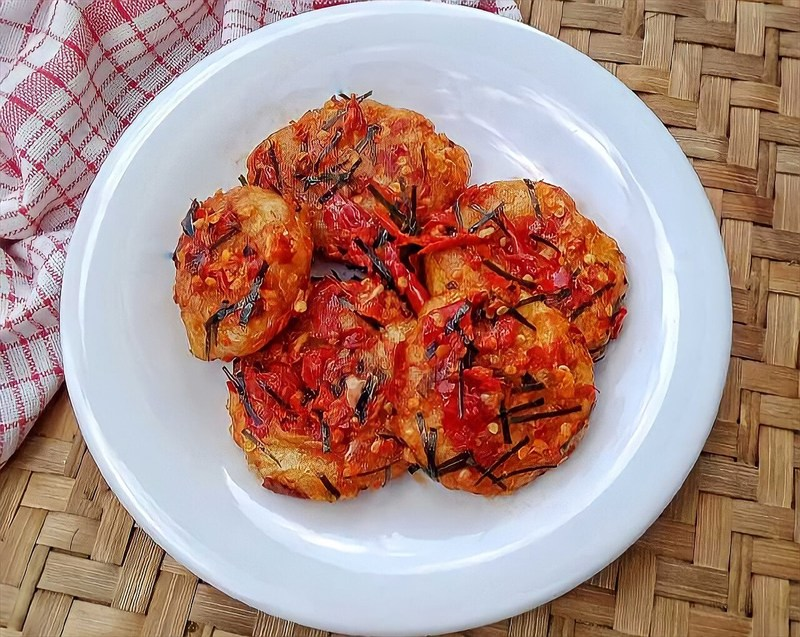Pempek: (167, 137, 623, 495)
